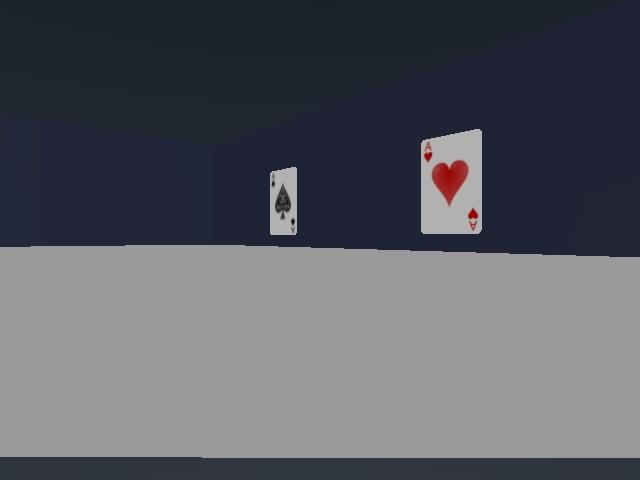heart: (421, 129, 482, 233)
spade: (270, 167, 297, 234)
